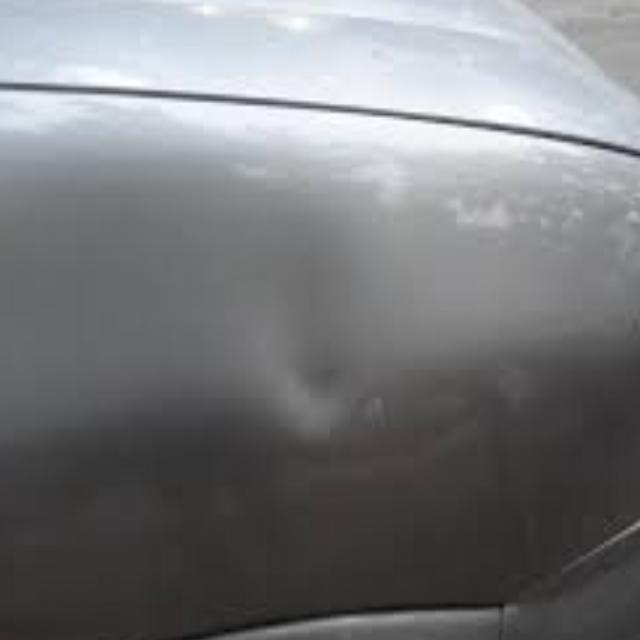dents: (264, 305, 362, 427)
